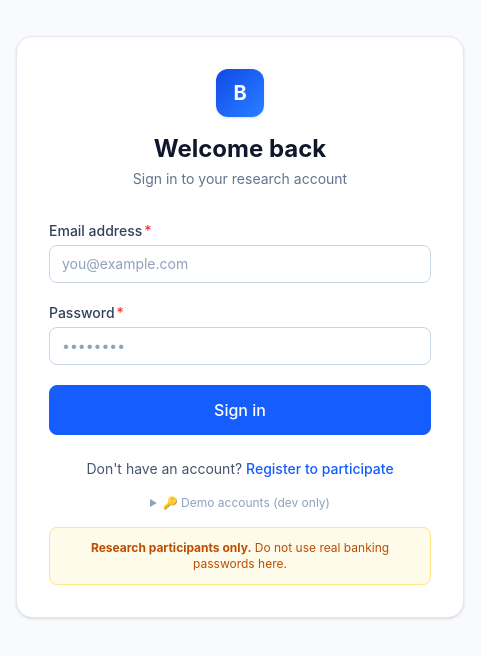
LoginPage — form validation › shows invalid email error
The width and height of the screenshot is (481, 656).
Type "not-an-email" into the field labelled "Email address*".
click(240, 264); type("not-an-email")  # box [49, 245, 431, 283]
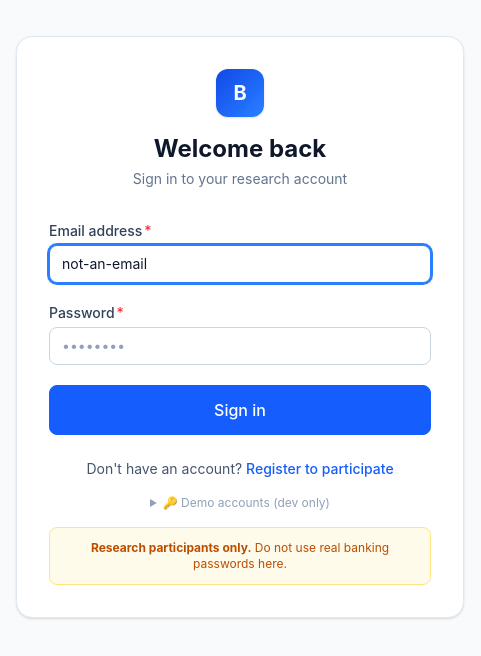
Click the button "Sign in".
click(240, 410)  # box [49, 385, 431, 435]
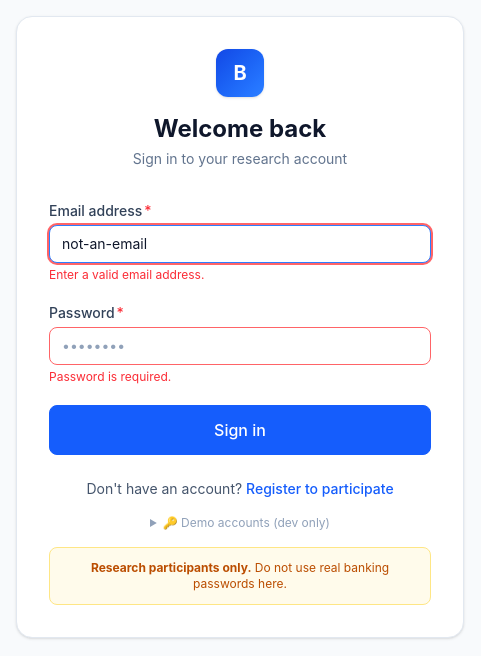
Check: the text "Enter a valid email address." is shown, box [49, 267, 204, 282]
